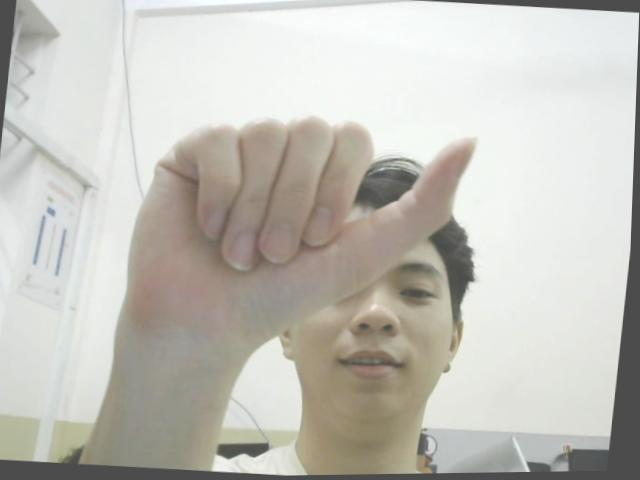A: (126, 99, 480, 356)
